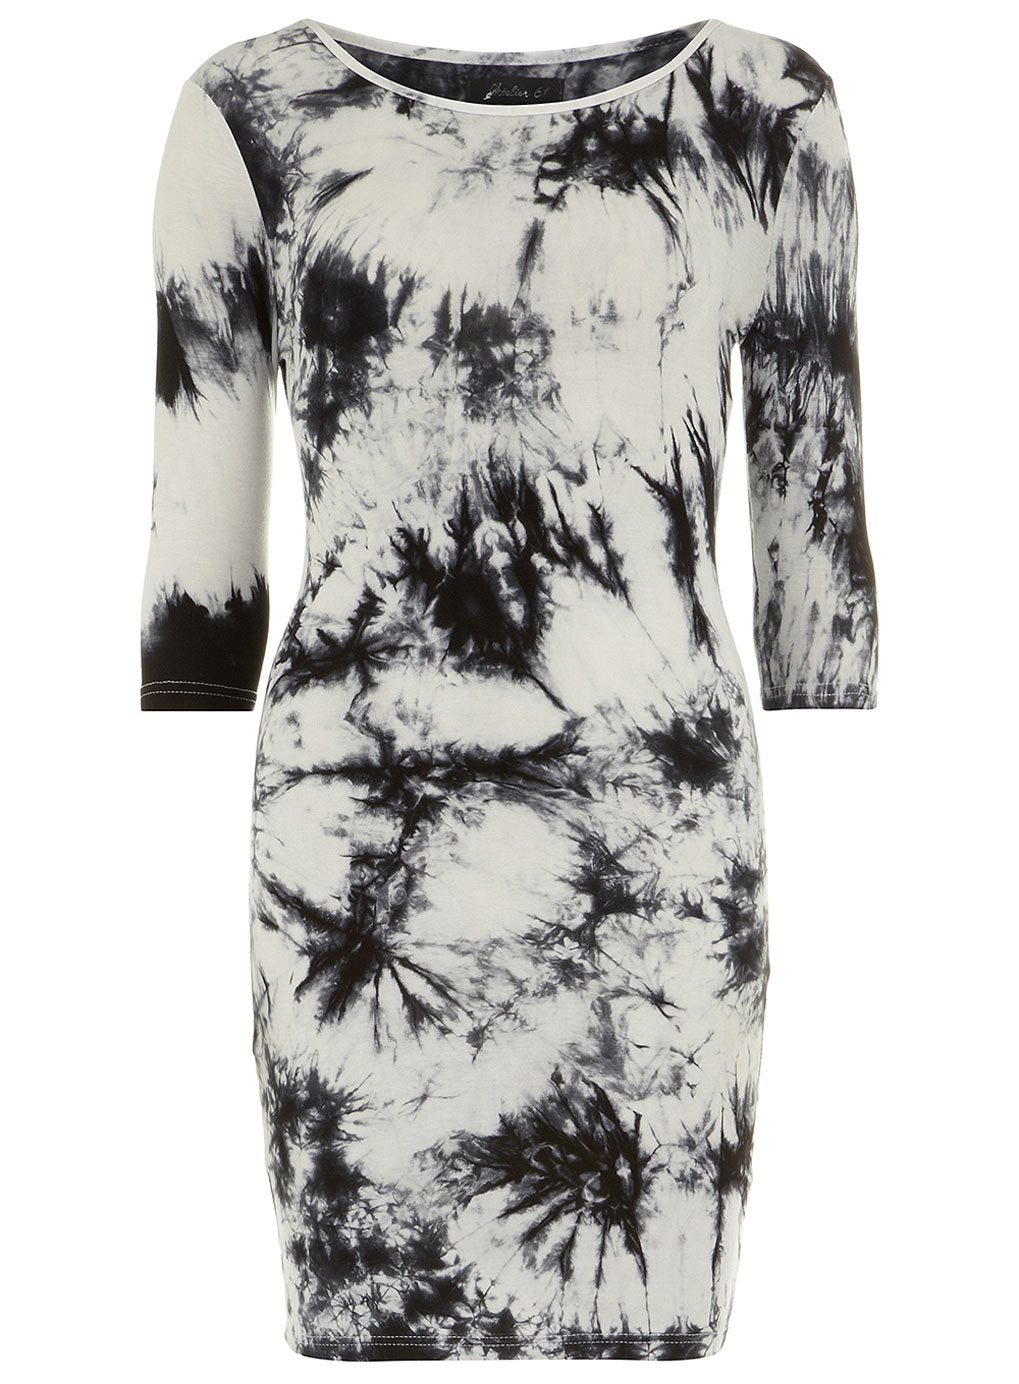C_dress: (121, 13, 906, 1360)
C_skirt: (223, 593, 778, 1369)
